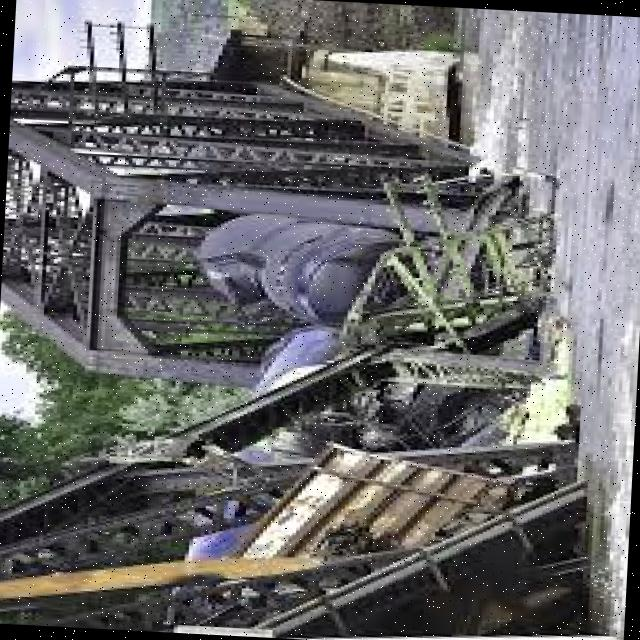bridge collapse: (60, 28, 640, 640)
